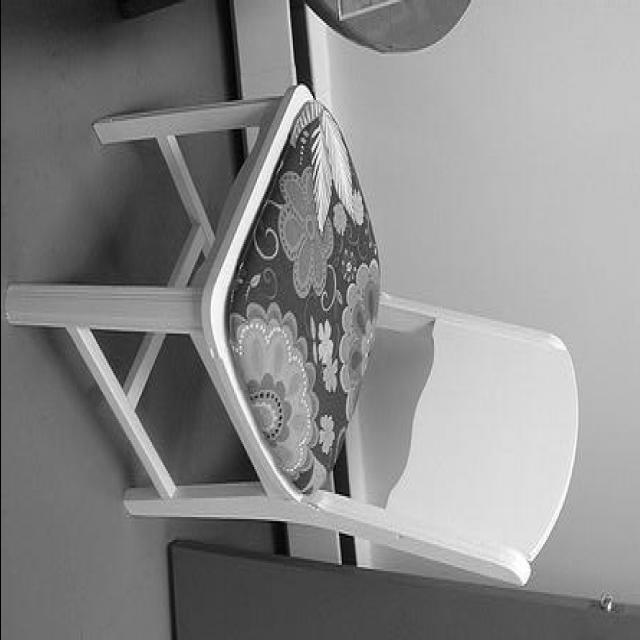chair: (6, 82, 580, 590)
